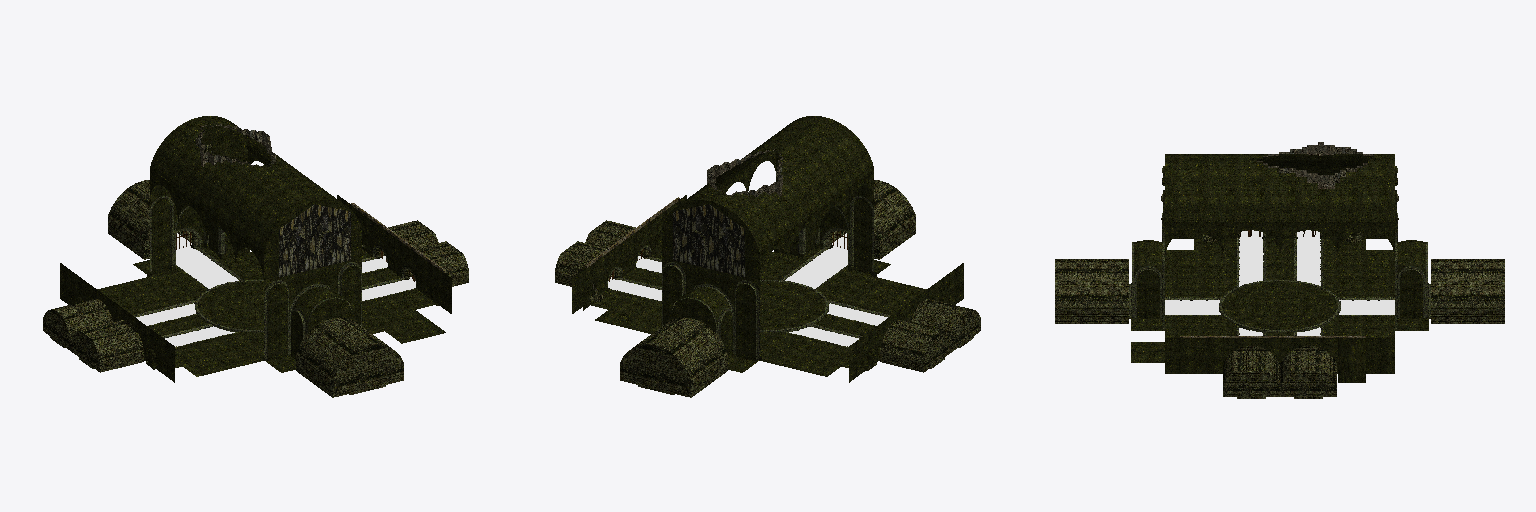
The picture shows the model from 3 angles: view 1: azimuth 30°, elevation 25°; view 2: azimuth 150°, elevation 25°; view 3: azimuth 270°, elevation 25°; orthographic projection.
Parts seen in each view (by area): view 1: mesh9, mesh3, mesh10, mesh0, mesh5, mesh2, mesh7, mesh11; view 2: mesh9, mesh3, mesh10, mesh0, mesh5, mesh2, mesh7, mesh11; view 3: mesh9, mesh3, mesh10, mesh2, mesh5, mesh11.
Part boxes in pixels (bbox=[...]): mesh9: bbox=[60, 116, 451, 382]; mesh3: bbox=[43, 144, 468, 397]; mesh10: bbox=[97, 248, 445, 376]; mesh0: bbox=[279, 204, 350, 277]; mesh5: bbox=[133, 196, 416, 360]; mesh2: bbox=[136, 233, 415, 346]; mesh7: bbox=[147, 128, 438, 360]; mesh11: bbox=[196, 124, 275, 166]; mesh9: bbox=[572, 116, 963, 382]; mesh3: bbox=[555, 180, 980, 397]; mesh10: bbox=[589, 248, 926, 376]; mesh0: bbox=[673, 204, 744, 277]; mesh5: bbox=[607, 196, 890, 360]; mesh2: bbox=[608, 233, 887, 346]; mesh7: bbox=[586, 151, 876, 360]; mesh11: bbox=[707, 149, 782, 196]; mesh9: bbox=[1134, 154, 1425, 382]; mesh3: bbox=[1055, 168, 1504, 398]; mesh10: bbox=[1131, 240, 1428, 362]; mesh2: bbox=[1165, 230, 1394, 335]; mesh5: bbox=[1129, 213, 1430, 335]; mesh11: bbox=[1257, 142, 1373, 188].
Bounding box in the file's own units: 40.13 × 20.21 × 42.35.
Materials: 12 (8 with a texture image).